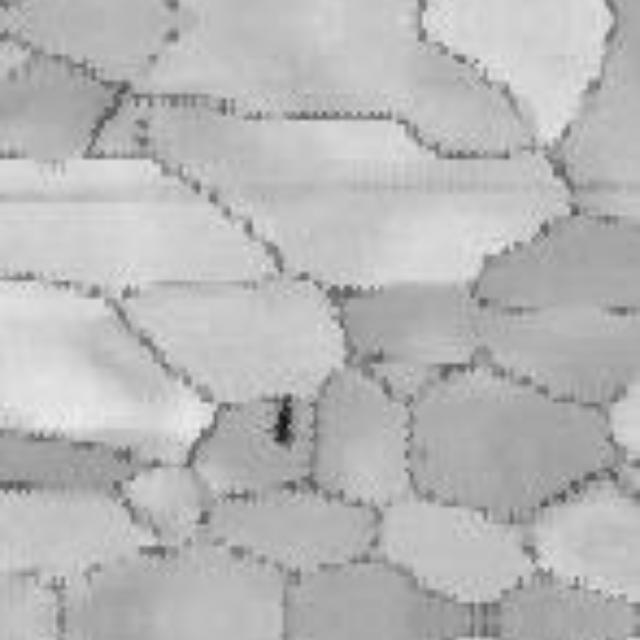good_void: (267, 388, 301, 450)
